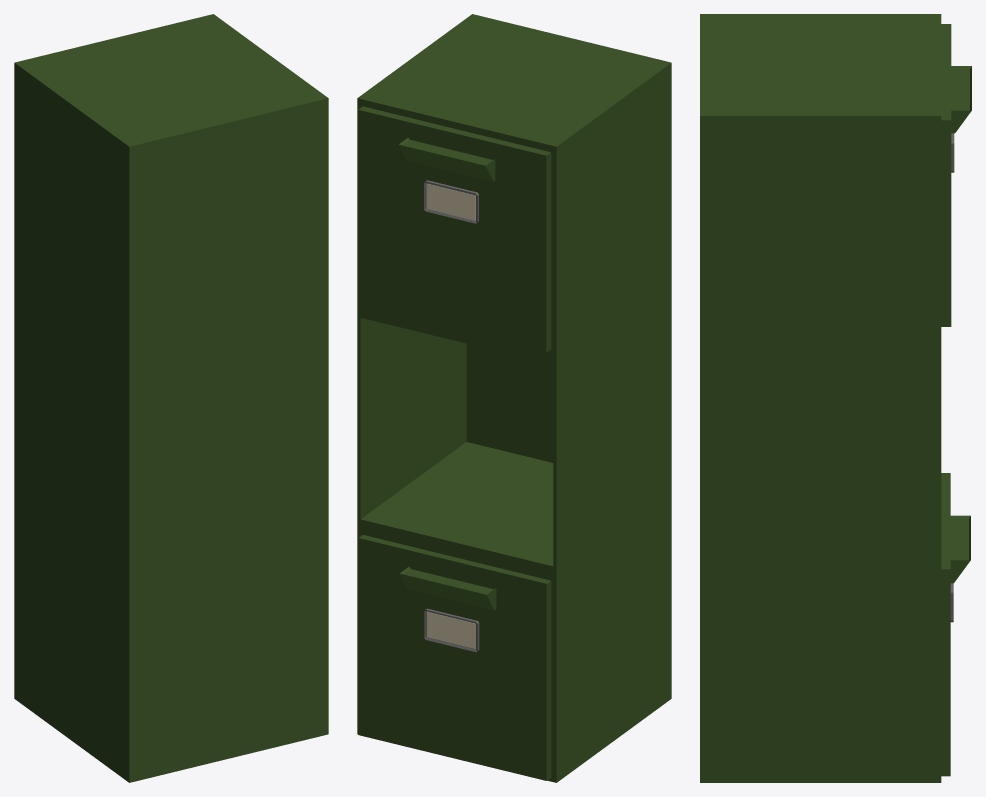
File: classeur_corps.glb
3 views of the same model, side by side, from view 1: azimuth 30°, elevation 25°; view 2: azimuth 150°, elevation 25°; view 3: azimuth 270°, elevation 25° (orthographic). The views are drawn at different scales.
Parts seen in each view (by area): view 1: model; view 2: model; view 3: model.
Part boxes in pixels (x1,y1,x2,y2): model: (14,14,328,782); model: (357,14,671,782); model: (700,14,971,782).
Bounding box in the file's own units: 3.7 × 11.28 × 4.17.
